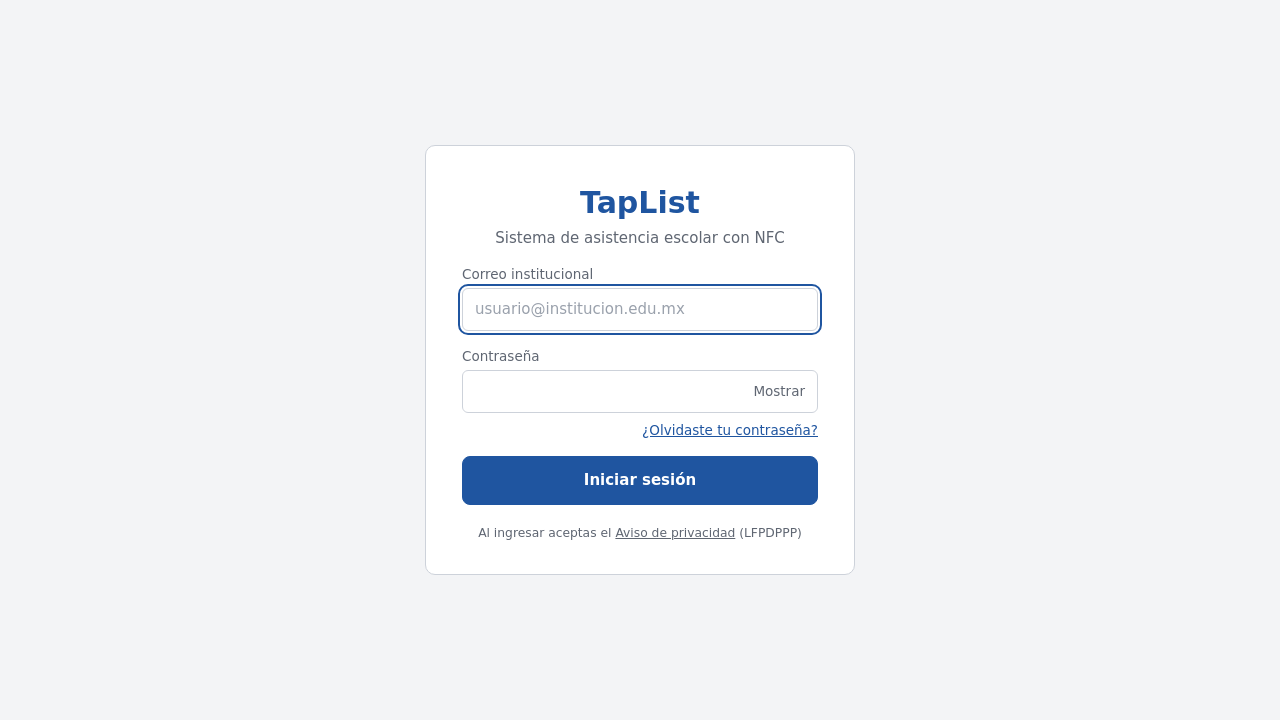
Test: P1 · Inicio de sesión › un Administrador entra y va a /estudiantes
Type "admin@taplist.mx" into the field labelled "Correo institucional" at x=640, y=310, box [462,288,818,331]
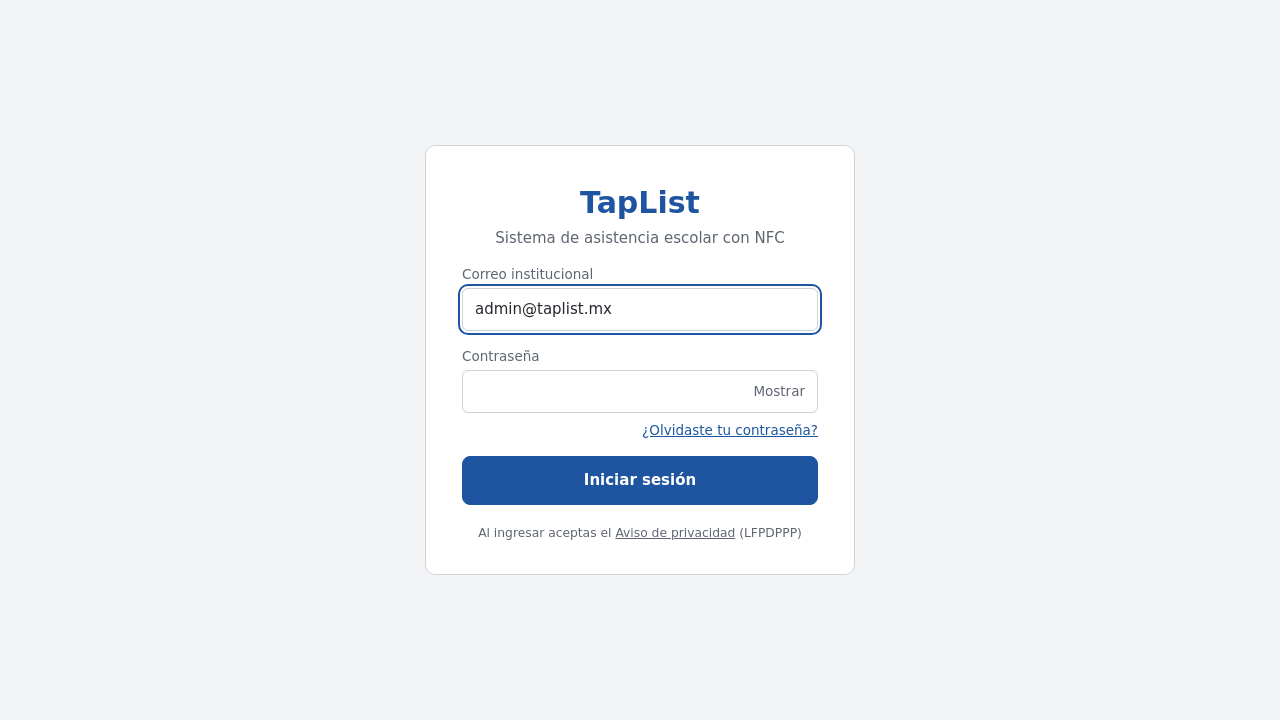
Type "Secreta#123" into the password field labelled "Contraseña" at x=640, y=391, box [462,370,818,413]
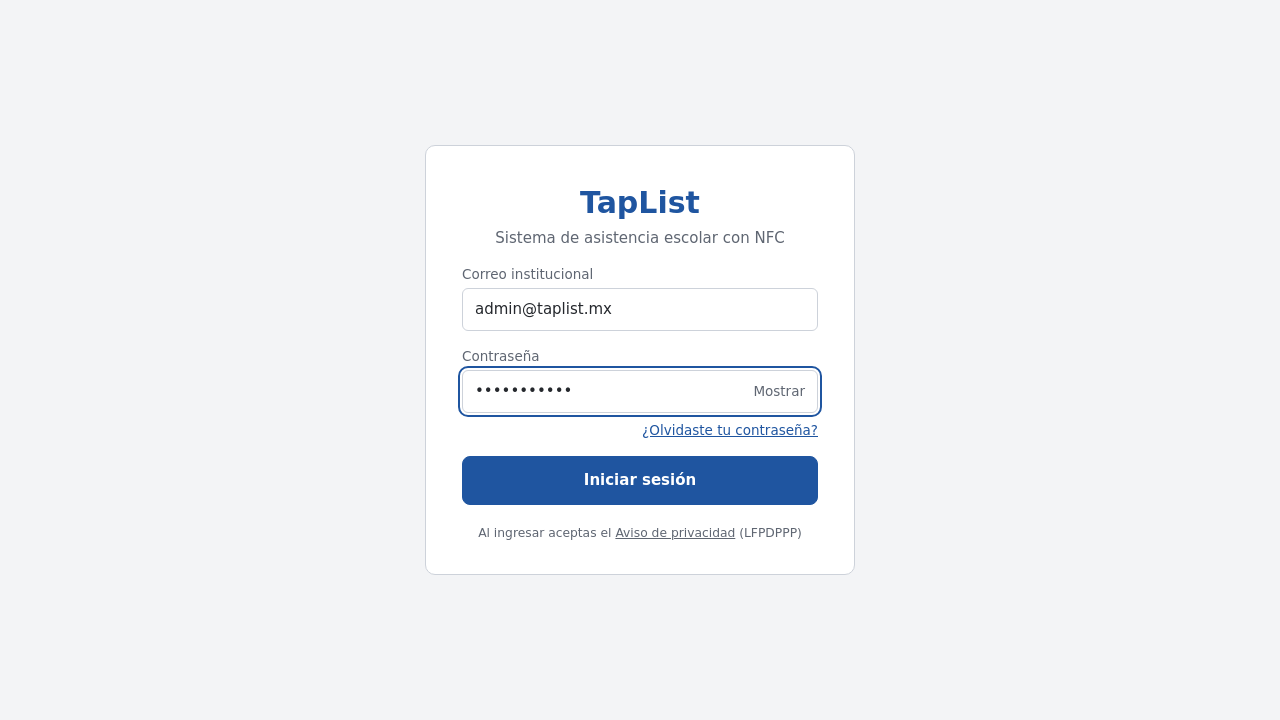
Click the button "Iniciar sesión" at x=640, y=480, box [462,456,818,505]
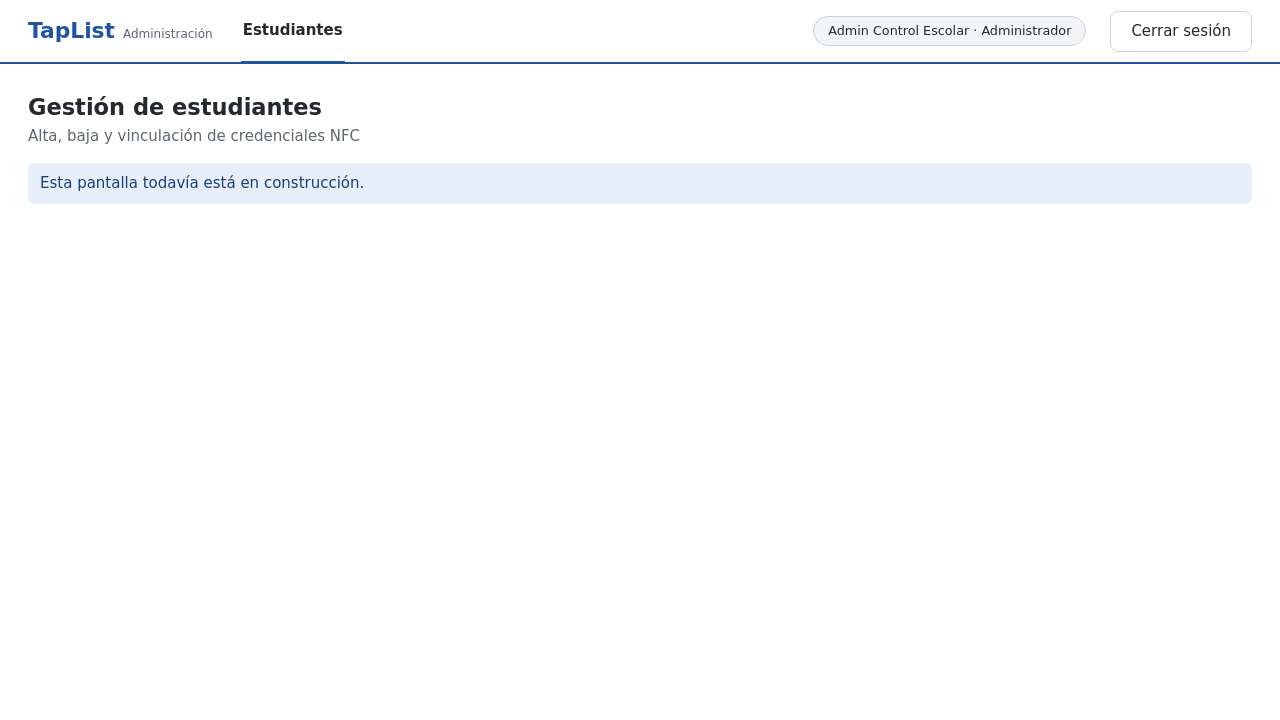
Expected: the text "Administración" is shown, [123,26,213,43]
Expected: the link "Estudiantes" is shown, [241,0,345,64]
